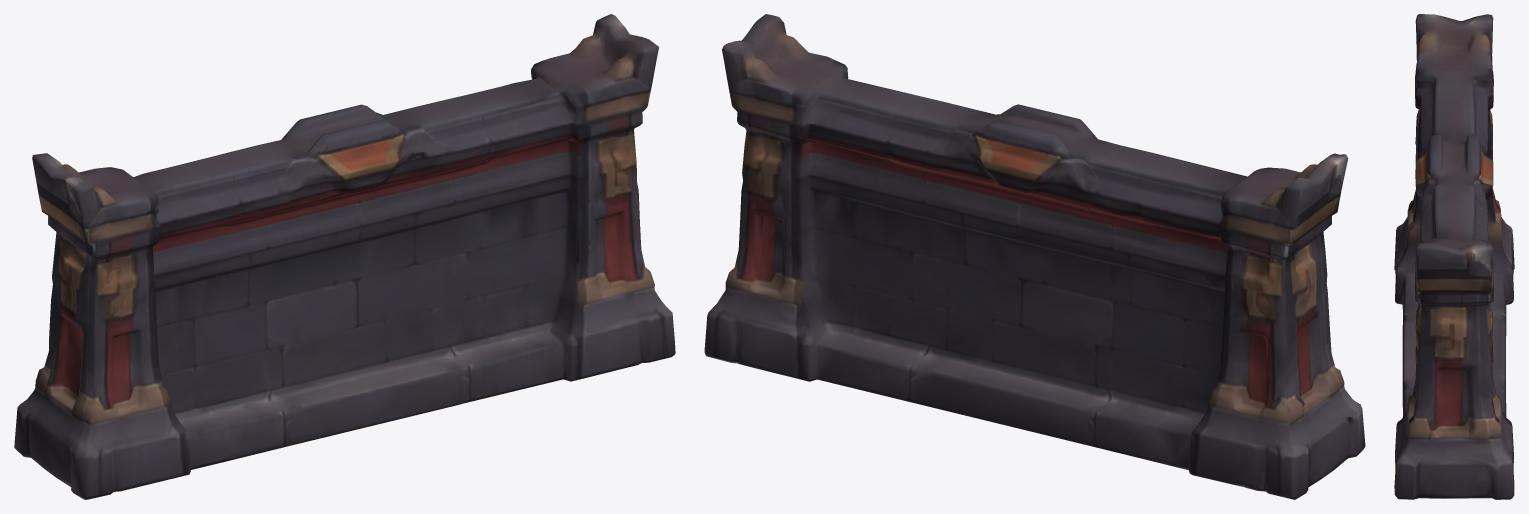
File: SM_Env_InfernoWall.glb
3 renders of one model, left to right at view 1: azimuth 30°, elevation 25°; view 2: azimuth 150°, elevation 25°; view 3: azimuth 270°, elevation 25°, orthographic. The views are drawn at different scales.
Visible parts, largest first — view 1: SM_Env_InfernoWall_LOD0; view 2: SM_Env_InfernoWall_LOD0; view 3: SM_Env_InfernoWall_LOD0.
Part boxes in pixels (bbox=[...]): SM_Env_InfernoWall_LOD0: bbox=[14, 14, 675, 499]; SM_Env_InfernoWall_LOD0: bbox=[704, 14, 1365, 499]; SM_Env_InfernoWall_LOD0: bbox=[1394, 14, 1514, 499].
Bounding box in the file's own units: 8.54 × 4.17 × 1.81.
1 material, 1 textured.
